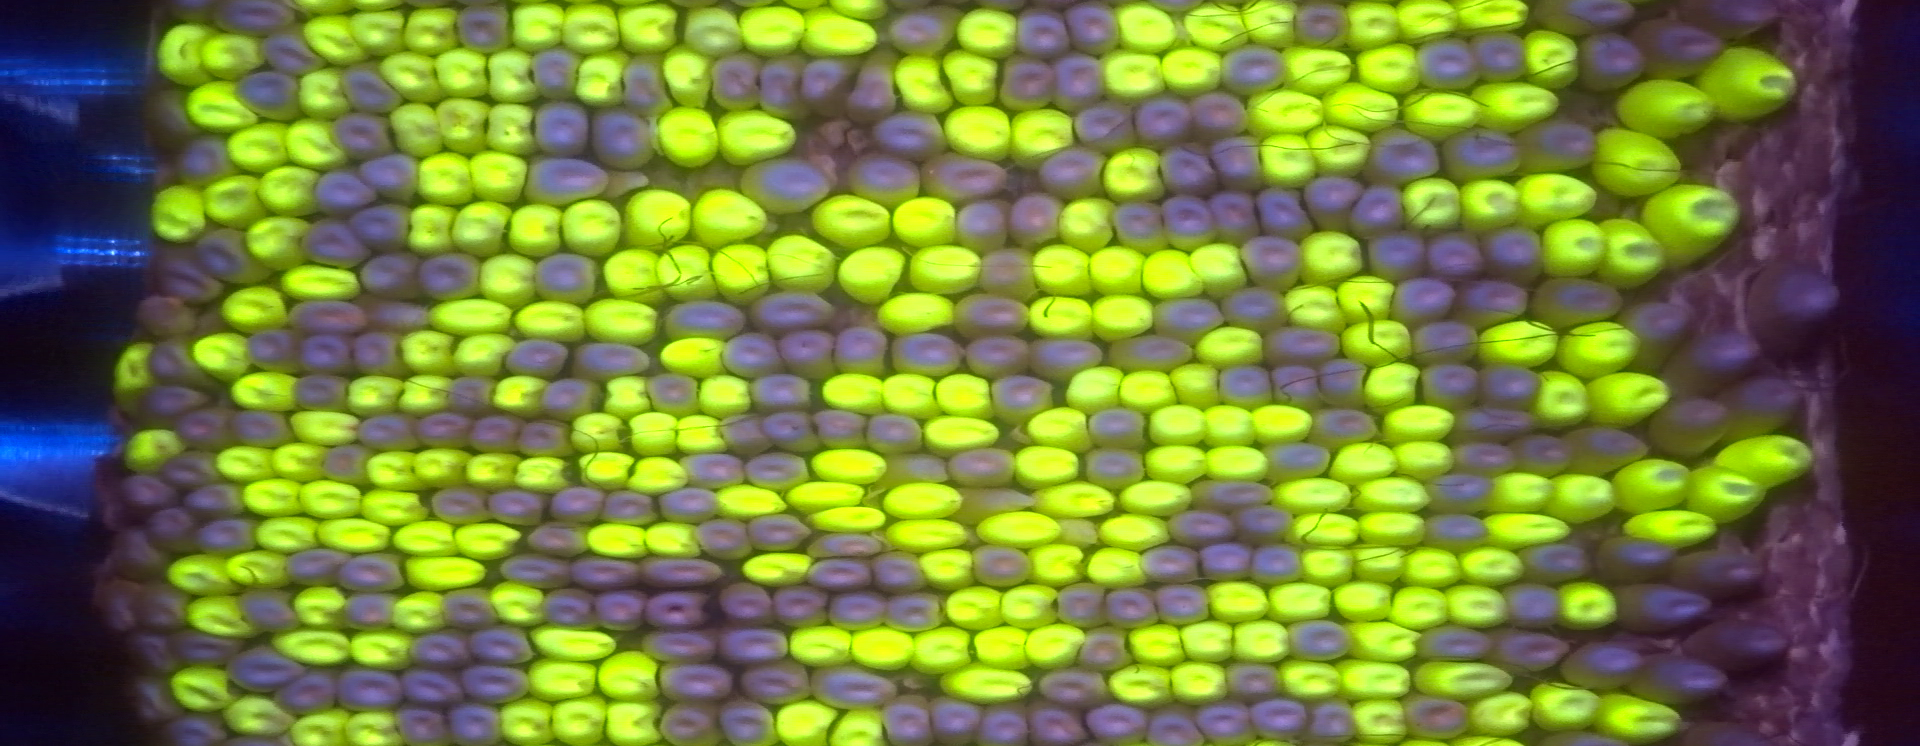fluorescent: (1703, 36, 1802, 132), (1642, 180, 1749, 266), (1615, 78, 1719, 143), (1593, 127, 1682, 196), (1613, 502, 1725, 552), (1409, 650, 1518, 701), (1596, 217, 1668, 289), (1591, 688, 1689, 741), (812, 194, 898, 254), (762, 235, 844, 296), (1521, 677, 1607, 735), (835, 241, 913, 304), (1458, 176, 1533, 240), (591, 641, 665, 704), (902, 236, 983, 294), (711, 111, 797, 165), (1540, 217, 1613, 281), (1319, 77, 1398, 135), (152, 21, 220, 87), (1558, 317, 1640, 372), (520, 649, 599, 707), (1518, 27, 1583, 96), (1513, 170, 1592, 227), (891, 51, 958, 118), (649, 108, 721, 168), (601, 247, 673, 307), (947, 100, 1011, 167), (503, 200, 572, 262), (651, 246, 721, 307), (301, 11, 375, 69), (1180, 1, 1260, 54), (1100, 42, 1169, 102), (1691, 467, 1767, 522), (938, 664, 1038, 706), (689, 189, 767, 243), (1584, 371, 1665, 423), (1717, 439, 1813, 481), (1611, 461, 1696, 510), (1442, 584, 1521, 637), (245, 211, 312, 272), (684, 2, 753, 62), (1467, 85, 1560, 129), (1030, 243, 1100, 301), (167, 550, 246, 601), (398, 554, 493, 597), (1395, 179, 1466, 236), (1484, 468, 1567, 517), (1473, 318, 1560, 365), (476, 250, 544, 310), (578, 296, 662, 344), (342, 627, 421, 677), (1296, 229, 1368, 284), (1337, 318, 1420, 366), (1026, 403, 1100, 457), (429, 296, 518, 341), (942, 49, 1005, 110), (1103, 147, 1168, 207), (879, 374, 953, 426), (742, 4, 811, 60), (1136, 247, 1205, 304), (189, 78, 260, 132), (622, 187, 693, 241), (284, 114, 350, 171), (1111, 6, 1183, 59), (636, 521, 708, 573), (1336, 655, 1416, 703), (954, 6, 1021, 62), (905, 621, 973, 676), (931, 369, 1000, 423), (489, 582, 553, 639), (1009, 109, 1075, 165), (1300, 122, 1376, 171), (1353, 40, 1420, 96), (557, 1, 624, 56), (1482, 510, 1576, 549), (1532, 367, 1589, 431), (219, 692, 300, 737), (889, 197, 964, 246), (1273, 660, 1348, 709), (219, 544, 298, 590), (531, 622, 624, 661), (1084, 244, 1151, 298), (1185, 241, 1253, 295), (661, 43, 715, 110), (560, 202, 627, 256), (1344, 617, 1420, 665), (1325, 442, 1404, 488), (660, 326, 733, 375), (711, 241, 774, 299), (148, 186, 212, 243), (1556, 575, 1621, 630), (354, 481, 429, 529), (1402, 92, 1483, 136), (1054, 198, 1120, 252), (666, 410, 732, 464), (1240, 399, 1321, 443), (433, 93, 491, 154), (451, 198, 512, 256), (1548, 472, 1618, 522), (622, 450, 692, 500), (973, 511, 1065, 549), (1250, 81, 1321, 130), (1033, 481, 1119, 522), (1280, 47, 1357, 91), (485, 99, 542, 158), (573, 51, 629, 111), (1258, 131, 1319, 186), (800, 11, 880, 53), (1158, 47, 1223, 98), (1242, 1, 1311, 49), (167, 664, 236, 712), (1196, 326, 1273, 369), (1278, 285, 1349, 332), (1337, 272, 1398, 326), (273, 628, 348, 673), (504, 1, 573, 49), (415, 158, 479, 209), (1458, 541, 1531, 587), (1233, 615, 1298, 665), (222, 124, 291, 170), (1362, 363, 1420, 418), (1167, 358, 1226, 413), (1396, 543, 1469, 587), (1022, 619, 1082, 673), (621, 1, 684, 51), (1207, 577, 1276, 624), (1173, 619, 1238, 668), (378, 53, 443, 102), (257, 164, 322, 213), (191, 595, 256, 644), (482, 51, 539, 108), (1140, 441, 1216, 483), (971, 625, 1037, 673), (1149, 399, 1211, 450), (996, 583, 1067, 627), (1467, 695, 1538, 739), (287, 262, 364, 303), (887, 518, 977, 552), (111, 345, 167, 402), (846, 630, 918, 673), (1092, 289, 1152, 341), (620, 403, 680, 454), (296, 478, 366, 522), (1390, 1, 1466, 42), (202, 32, 264, 81), (1359, 503, 1433, 545), (218, 285, 291, 327), (225, 367, 299, 409), (200, 176, 267, 222), (460, 448, 528, 494), (1282, 513, 1368, 549), (396, 330, 459, 377), (391, 100, 443, 158), (321, 514, 400, 552), (1067, 365, 1131, 412), (192, 331, 257, 377), (782, 626, 855, 668), (1347, 481, 1438, 514), (1097, 511, 1173, 550), (922, 418, 1003, 454), (1201, 442, 1272, 484), (238, 479, 309, 521), (1342, 1, 1407, 47), (399, 372, 459, 421), (400, 6, 462, 54), (511, 453, 580, 495), (808, 447, 893, 481), (404, 198, 456, 255), (1168, 655, 1226, 706), (1384, 587, 1451, 630), (1026, 541, 1090, 587), (877, 294, 958, 330), (467, 152, 527, 200), (493, 372, 553, 420), (1344, 543, 1413, 584), (1029, 294, 1095, 337), (1082, 545, 1149, 588), (452, 521, 518, 563), (253, 516, 331, 552), (272, 437, 334, 483), (576, 440, 633, 489), (122, 424, 182, 470), (599, 703, 662, 746), (1113, 371, 1180, 412), (438, 47, 489, 100), (1451, 1, 1536, 33), (1384, 404, 1462, 439), (1014, 447, 1082, 486), (920, 551, 986, 592), (1112, 661, 1171, 707), (774, 701, 833, 746), (784, 478, 867, 510), (1333, 581, 1393, 625), (1119, 481, 1199, 514), (1344, 698, 1400, 746), (811, 503, 900, 533), (824, 372, 889, 413), (347, 11, 411, 51), (1269, 582, 1340, 619), (546, 702, 609, 744), (451, 334, 509, 379), (1273, 480, 1358, 511), (365, 446, 425, 489), (393, 518, 453, 561), (951, 589, 1008, 635), (716, 485, 793, 518), (1202, 401, 1264, 442), (1125, 624, 1187, 665), (567, 412, 624, 456), (396, 589, 453, 633), (213, 445, 276, 485), (513, 298, 579, 336), (1298, 543, 1359, 583), (878, 484, 961, 513), (296, 69, 350, 114), (1395, 439, 1451, 481), (740, 554, 817, 584), (294, 586, 347, 630), (290, 408, 358, 442), (497, 704, 551, 746), (587, 526, 651, 560), (411, 448, 471, 485), (694, 379, 760, 412), (288, 713, 354, 746), (602, 372, 651, 416), (834, 706, 887, 746), (343, 376, 402, 410), (345, 710, 402, 746)
nonfluorescent: (1752, 265, 1848, 352), (1707, 371, 1812, 442), (1687, 619, 1793, 674), (1630, 650, 1723, 709), (913, 148, 1011, 203), (1528, 269, 1622, 325), (192, 225, 272, 289), (1559, 635, 1642, 695), (1644, 397, 1733, 452), (1670, 330, 1760, 383), (1609, 579, 1709, 627), (587, 104, 658, 171), (1531, 1, 1644, 43), (1673, 552, 1769, 600), (522, 156, 613, 206), (156, 245, 229, 307), (129, 577, 202, 639), (849, 149, 926, 207), (1442, 126, 1522, 181), (1685, 1, 1780, 45), (1636, 24, 1722, 73), (1007, 9, 1082, 64), (887, 4, 970, 54), (358, 292, 441, 342), (1299, 175, 1371, 233), (748, 158, 825, 212), (733, 664, 820, 712), (1368, 129, 1444, 183), (1518, 122, 1600, 171), (1358, 227, 1430, 282), (1348, 180, 1412, 243), (992, 51, 1058, 111), (971, 244, 1044, 298), (1389, 271, 1456, 330), (1155, 143, 1223, 201), (529, 98, 598, 156), (813, 664, 902, 708), (1575, 36, 1651, 87), (642, 588, 718, 639), (238, 586, 305, 643), (1455, 402, 1548, 443), (1404, 692, 1476, 746), (950, 292, 1032, 338), (1491, 626, 1569, 675), (351, 148, 420, 203), (1248, 692, 1318, 746), (1476, 359, 1550, 409), (1044, 51, 1107, 111), (1455, 281, 1533, 328), (324, 110, 396, 163), (849, 58, 905, 124), (1596, 534, 1678, 579), (889, 328, 969, 375), (1234, 232, 1303, 285), (1253, 186, 1318, 243), (1221, 285, 1292, 337), (744, 288, 838, 327), (491, 552, 584, 592), (1073, 98, 1140, 152), (1632, 303, 1686, 370), (775, 330, 842, 383), (1287, 1, 1359, 51), (1033, 149, 1113, 195), (1207, 138, 1272, 194), (540, 583, 606, 637), (453, 1, 520, 54), (349, 198, 411, 255), (108, 679, 190, 722), (715, 628, 798, 670), (302, 216, 371, 266), (358, 251, 426, 301), (1064, 1, 1127, 56), (290, 330, 360, 379), (1216, 48, 1296, 91), (1253, 325, 1342, 363), (1412, 42, 1483, 89), (967, 541, 1038, 589), (140, 91, 198, 148), (1104, 336, 1196, 372), (1566, 425, 1647, 467), (1496, 581, 1569, 627), (416, 255, 485, 304), (1420, 358, 1484, 410), (1281, 619, 1357, 663), (756, 405, 820, 457), (713, 579, 779, 630), (236, 69, 302, 119), (1025, 338, 1107, 379), (666, 301, 748, 342), (1158, 196, 1220, 250), (312, 168, 380, 217), (485, 481, 552, 530), (590, 581, 651, 635), (464, 625, 536, 670), (568, 341, 651, 380), (502, 338, 578, 381), (1513, 541, 1593, 582), (339, 60, 402, 111), (271, 673, 348, 714), (457, 663, 531, 706), (827, 325, 895, 371), (208, 1, 301, 36), (1474, 31, 1539, 80), (287, 370, 351, 419), (529, 43, 585, 99), (1206, 189, 1264, 244), (170, 401, 230, 453), (873, 111, 947, 154), (960, 339, 1033, 382), (1024, 703, 1097, 746), (924, 695, 986, 746), (655, 664, 741, 701), (874, 696, 937, 746), (1419, 234, 1487, 281), (121, 628, 189, 675), (227, 646, 304, 686), (1151, 296, 1226, 338), (620, 56, 673, 114), (1258, 436, 1330, 479), (173, 138, 239, 185), (337, 666, 407, 710), (1409, 320, 1480, 363), (536, 254, 600, 301), (154, 334, 211, 388), (988, 375, 1057, 419), (1082, 443, 1151, 488), (514, 414, 573, 465), (133, 382, 202, 426), (260, 29, 324, 76), (716, 696, 776, 746), (638, 555, 722, 590), (1005, 194, 1067, 243), (1189, 475, 1280, 508), (1153, 584, 1216, 632), (1308, 407, 1381, 447), (291, 296, 372, 333), (571, 551, 638, 595), (1315, 358, 1373, 409), (740, 451, 811, 492), (634, 627, 718, 663), (1191, 537, 1253, 584), (797, 58, 850, 113), (1480, 232, 1548, 274), (1510, 432, 1577, 475), (133, 290, 201, 333), (336, 557, 411, 595), (1163, 505, 1234, 545), (1411, 625, 1491, 660), (1037, 664, 1108, 704), (1195, 699, 1260, 744), (116, 526, 169, 579), (811, 530, 896, 563), (642, 370, 708, 413), (658, 483, 720, 528), (724, 328, 780, 379), (1085, 405, 1149, 450), (399, 665, 467, 707), (1220, 364, 1280, 410), (1138, 546, 1209, 586), (1113, 203, 1174, 249), (823, 587, 884, 632), (1086, 699, 1147, 745), (468, 409, 522, 461), (167, 627, 235, 668), (349, 330, 405, 379), (1129, 98, 1191, 142), (1228, 658, 1287, 704), (549, 483, 609, 528), (707, 54, 760, 104), (885, 588, 947, 632), (351, 413, 420, 452), (523, 519, 591, 559), (1053, 583, 1116, 626), (538, 375, 600, 418), (163, 451, 225, 494), (438, 587, 504, 627), (971, 701, 1030, 746), (394, 706, 464, 744), (144, 500, 196, 551), (808, 408, 873, 448), (227, 410, 291, 451), (684, 448, 741, 495), (344, 587, 402, 632), (1236, 503, 1304, 541), (769, 582, 831, 624), (1149, 704, 1211, 746), (1190, 98, 1249, 142), (1248, 544, 1307, 588), (96, 582, 144, 635), (760, 59, 801, 122), (949, 200, 1003, 247), (711, 413, 771, 456), (959, 490, 1042, 521), (240, 330, 301, 371), (1422, 512, 1493, 548), (1269, 361, 1319, 412), (942, 450, 1018, 483), (1080, 625, 1134, 671), (1310, 692, 1357, 746), (1100, 587, 1160, 628), (187, 480, 249, 521), (405, 627, 467, 668), (283, 552, 358, 586), (748, 374, 813, 412), (691, 521, 756, 559), (662, 706, 727, 744), (599, 489, 665, 526), (430, 484, 485, 528), (864, 413, 924, 453), (420, 407, 476, 448), (118, 473, 175, 513), (1427, 469, 1485, 508), (748, 512, 807, 551), (456, 698, 503, 746), (880, 453, 947, 488), (869, 552, 927, 590), (1458, 441, 1520, 477), (444, 374, 498, 412), (160, 715, 224, 746), (807, 559, 864, 590), (192, 521, 250, 552)
